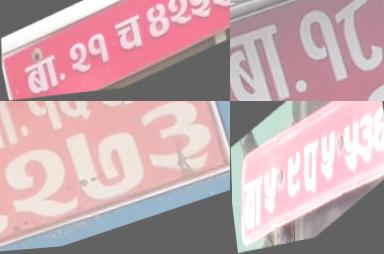1: (288, 0, 351, 98), (15, 101, 65, 145), (84, 28, 112, 75)
2: (0, 139, 83, 237), (64, 38, 93, 84), (163, 0, 193, 39)
3: (129, 101, 220, 193), (353, 101, 377, 184), (206, 0, 230, 23)
4: (142, 3, 172, 48)
5: (316, 118, 340, 198), (340, 111, 364, 187), (260, 160, 283, 226), (184, 0, 215, 32)
6: (47, 101, 96, 134), (368, 101, 384, 176)
7: (59, 116, 152, 217)
8: (326, 0, 384, 86)
9: (281, 147, 306, 215)
ba: (230, 17, 298, 101), (19, 50, 62, 99), (240, 170, 266, 242), (0, 101, 23, 166)
cha: (112, 13, 148, 63), (78, 101, 142, 124)
pa: (300, 133, 324, 206)
